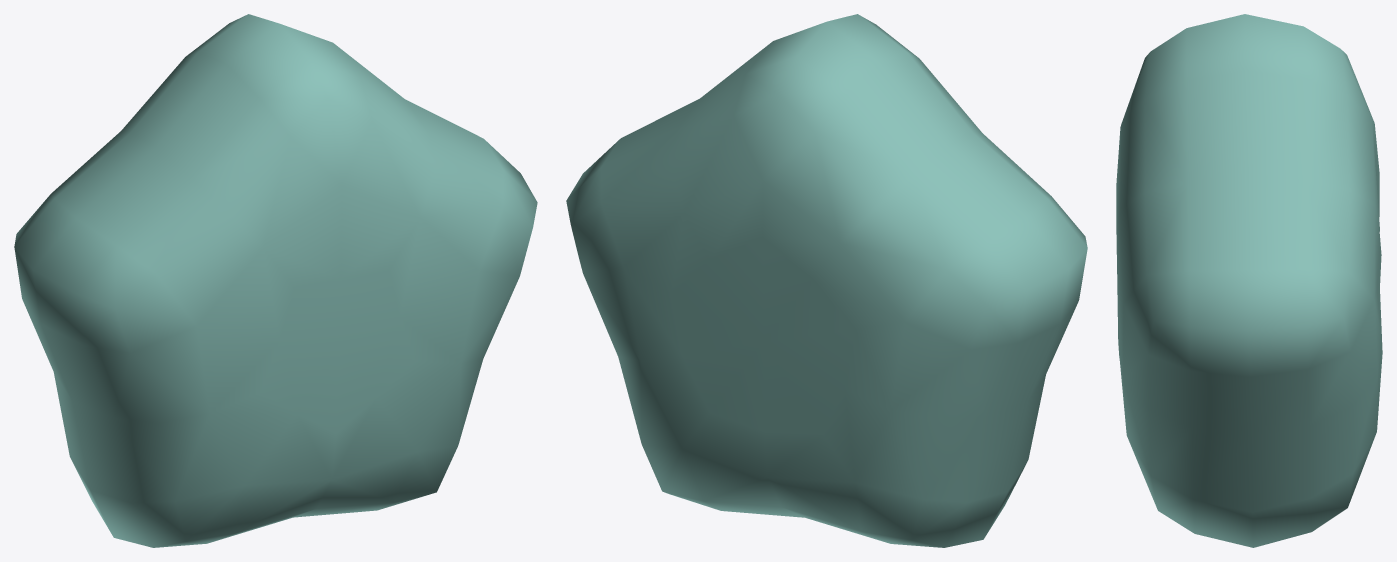
Rendered from wawaB_wawajiA_Geo.fbx.
3 renders of one model, left to right at view 1: azimuth 30°, elevation 25°; view 2: azimuth 150°, elevation 25°; view 3: azimuth 270°, elevation 25°, orthographic. The views are drawn at different scales.
Visible parts, largest first — view 1: wawaB_wawajiA_Geo; view 2: wawaB_wawajiA_Geo; view 3: wawaB_wawajiA_Geo.
Boxes of the visible parts, x1,y1,x2,y2 form: wawaB_wawajiA_Geo: [14, 14, 537, 547]; wawaB_wawajiA_Geo: [566, 14, 1087, 547]; wawaB_wawajiA_Geo: [1116, 14, 1382, 547].
Size of the model in its own units: 32.18 by 31.29 by 15.84.
